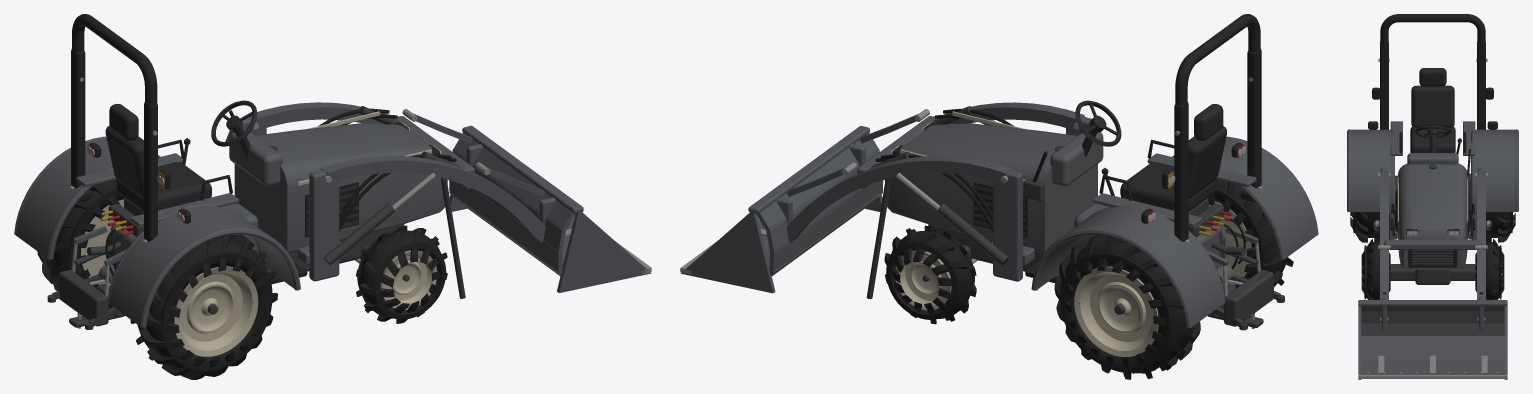
Rendered from SM_Prop_farm_tractor_compact_2.glb.
3 views of the same model, side by side, from view 1: azimuth 30°, elevation 25°; view 2: azimuth 150°, elevation 25°; view 3: azimuth 270°, elevation 25° (orthographic). The views are drawn at different scales.
Parts seen in each view (by area): view 1: SM_Prop_farm_tractor_compact_2; view 2: SM_Prop_farm_tractor_compact_2; view 3: SM_Prop_farm_tractor_compact_2.
Part boxes in pixels (bbox=[...]): SM_Prop_farm_tractor_compact_2: bbox=[14, 14, 651, 379]; SM_Prop_farm_tractor_compact_2: bbox=[680, 14, 1318, 379]; SM_Prop_farm_tractor_compact_2: bbox=[1347, 14, 1518, 379].
Bounding box in the file's own units: 3.94 × 2.24 × 1.66.
